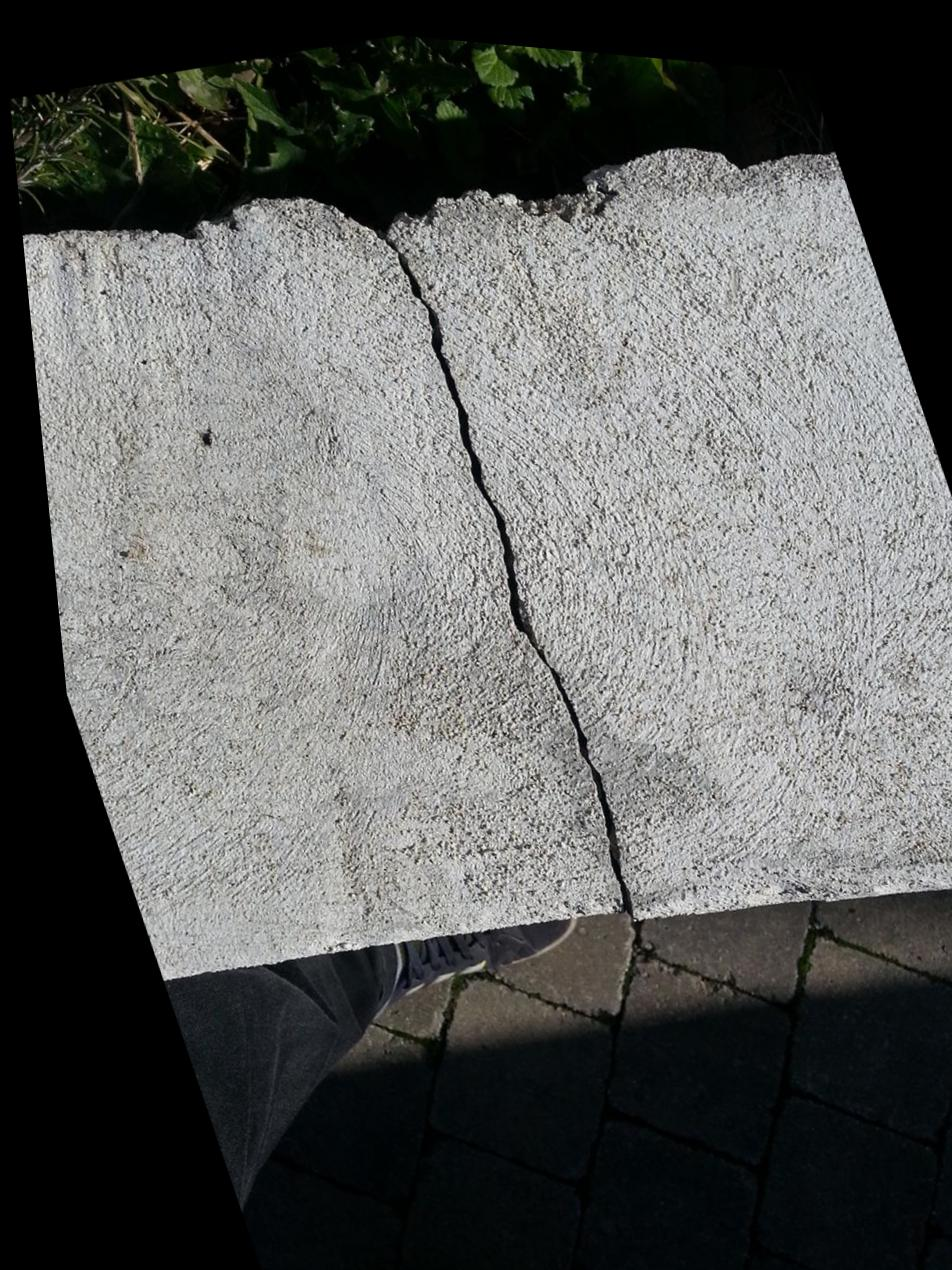crack: (378, 230, 617, 905)
